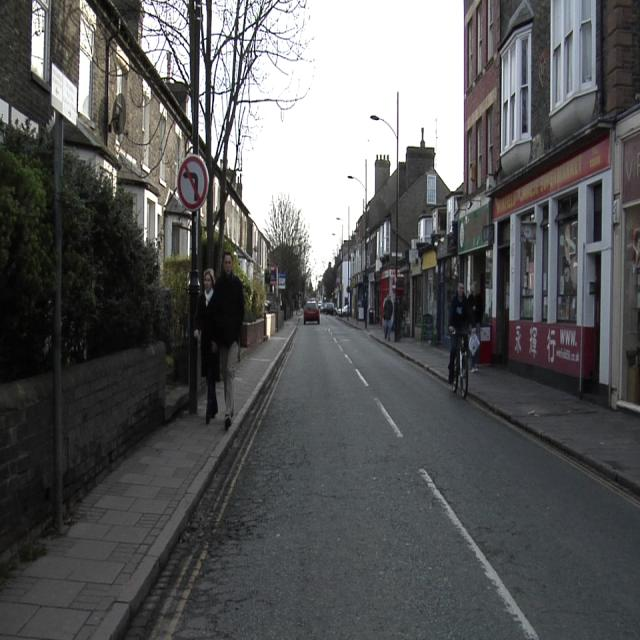Bicyclist: (448, 283, 474, 397)
Building: (325, 0, 639, 411), (0, 0, 191, 259), (0, 0, 169, 241), (214, 162, 268, 281)
Car: (304, 301, 319, 323), (324, 303, 335, 315)
Road: (138, 317, 634, 639)
Tree: (141, 0, 309, 187), (61, 152, 160, 364), (0, 130, 54, 381), (1, 131, 55, 380), (266, 192, 312, 314)
person: (207, 253, 244, 424), (449, 282, 474, 397), (382, 293, 394, 341)
